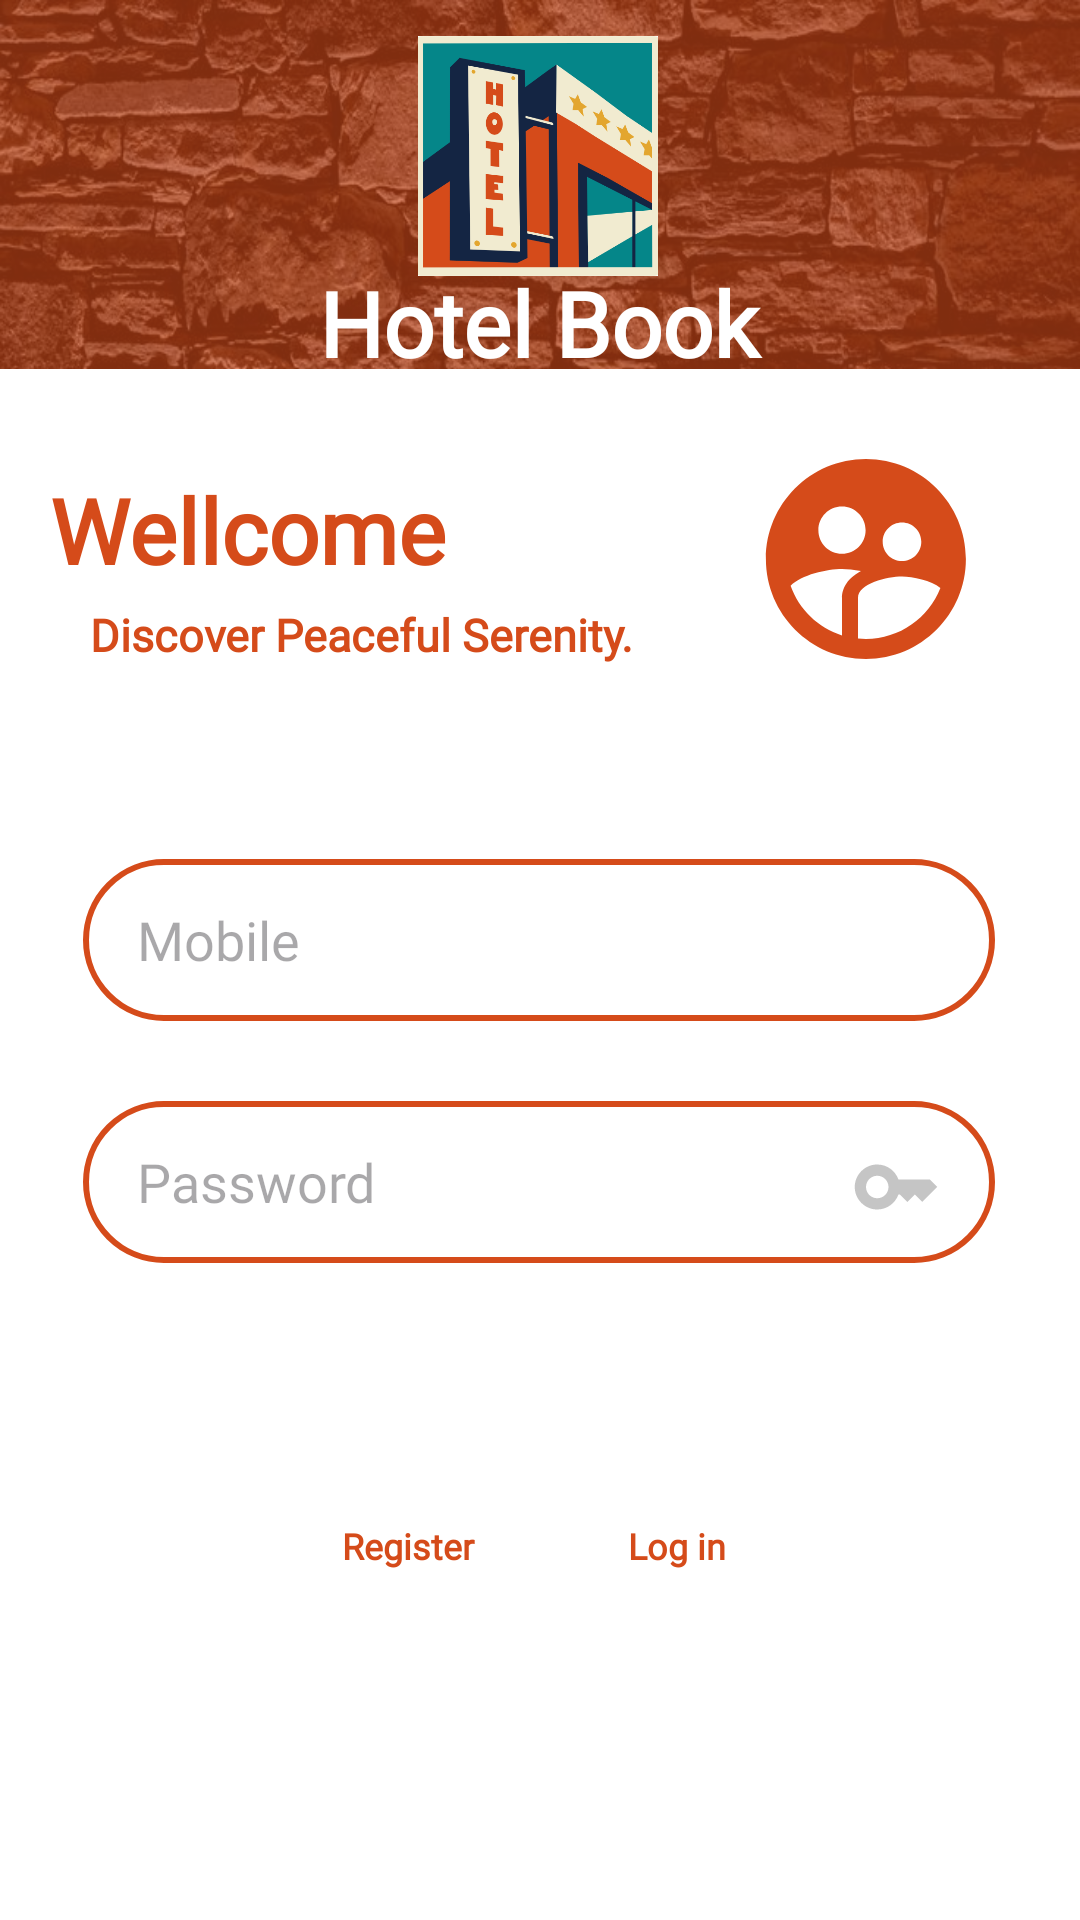

Named icons in this screenshot (1080 × 1920) and their centers, [x,y]:
users: [865,559]
